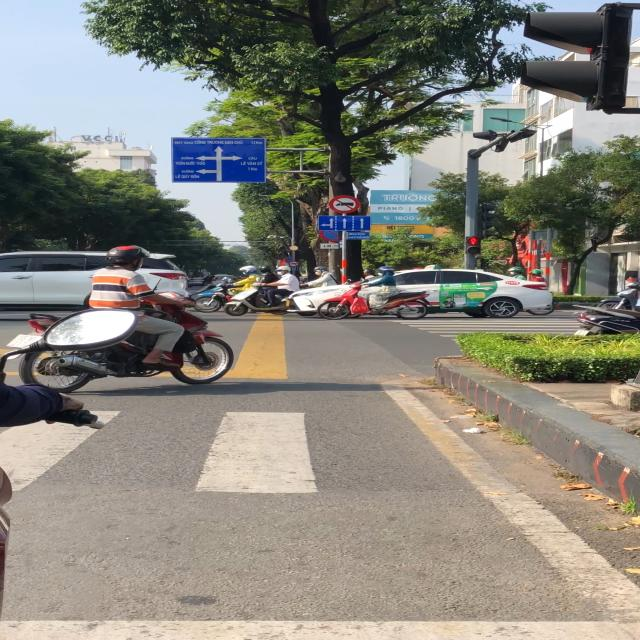Bien bao cam xe so-mi ro-mooc: (328, 194, 362, 215)
